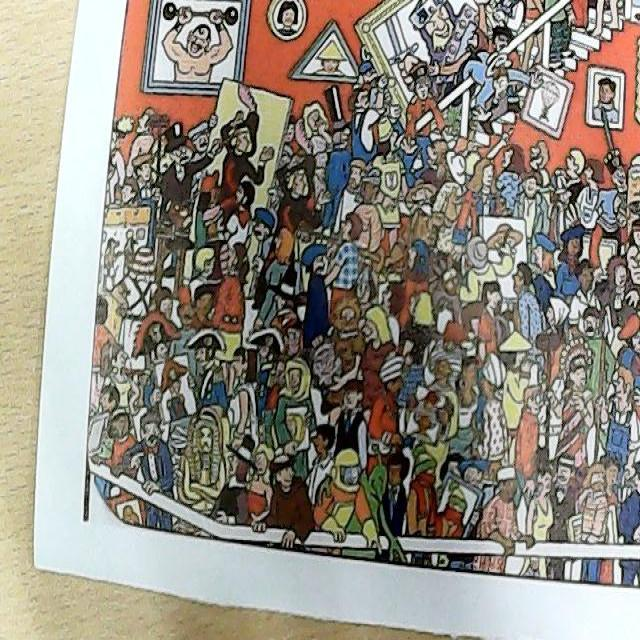waldo: (276, 309, 304, 360)
